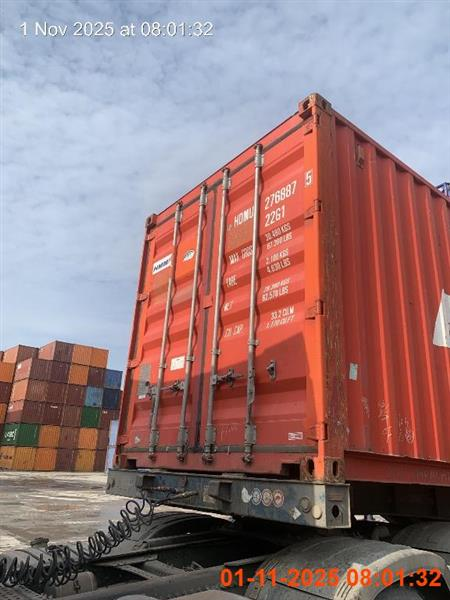broken: (103, 93, 449, 554)
